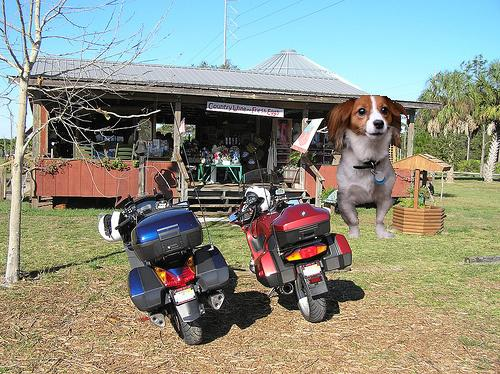tampered: (327, 96, 409, 238)
